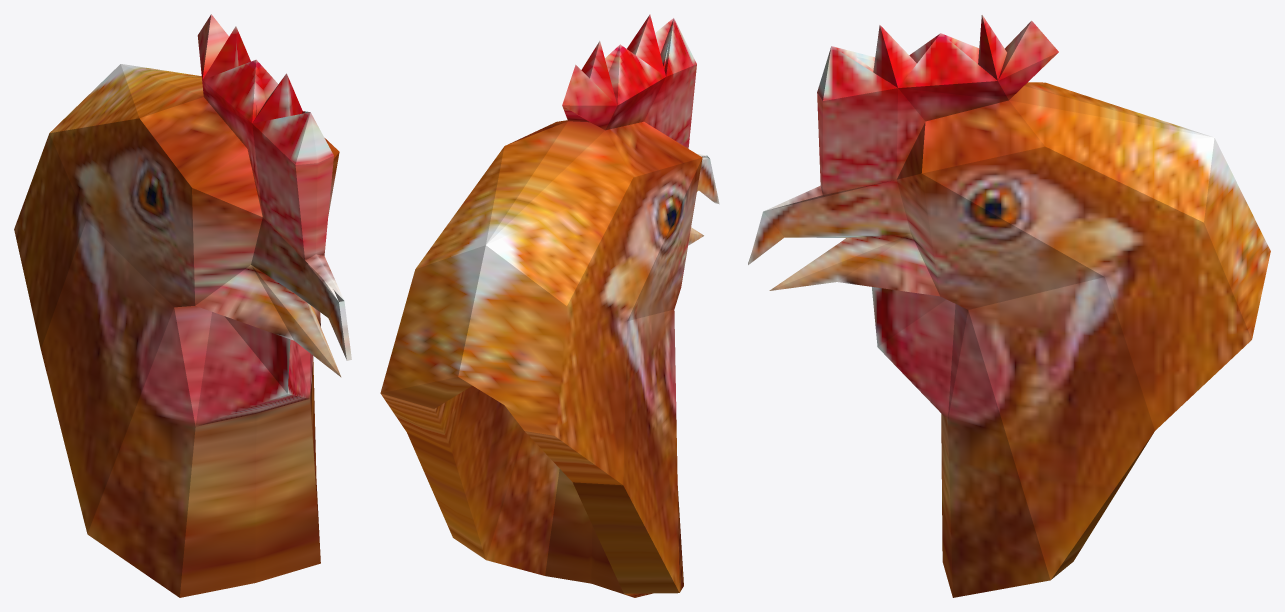
File: ChickenMask.fbx
3 renders of one model, left to right at view 1: azimuth 30°, elevation 25°; view 2: azimuth 150°, elevation 25°; view 3: azimuth 270°, elevation 25°, orthographic.
Visible parts, largest first — view 1: ChickenMask; view 2: ChickenMask; view 3: ChickenMask.
Part boxes in pixels (<box>): ChickenMask: <box>14,14,351,597</box>; ChickenMask: <box>380,14,719,597</box>; ChickenMask: <box>748,14,1270,597</box>.
Size of the model in its own units: 4.66 by 10.58 by 9.12.
